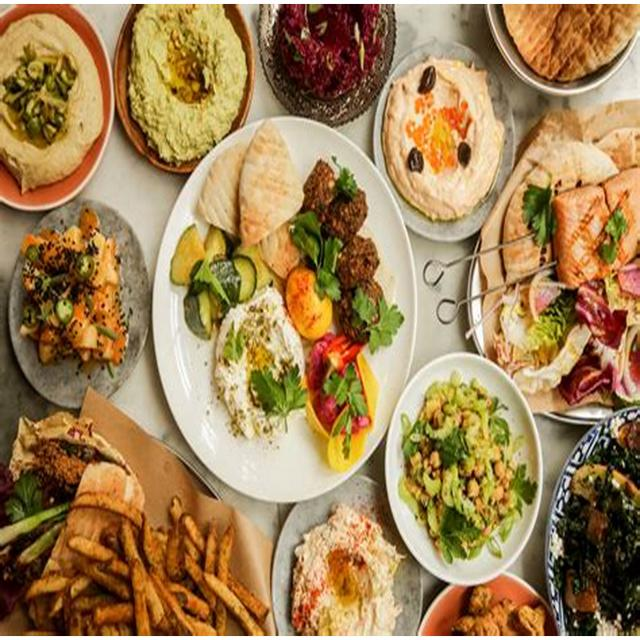hummus: (392, 63, 494, 216)
